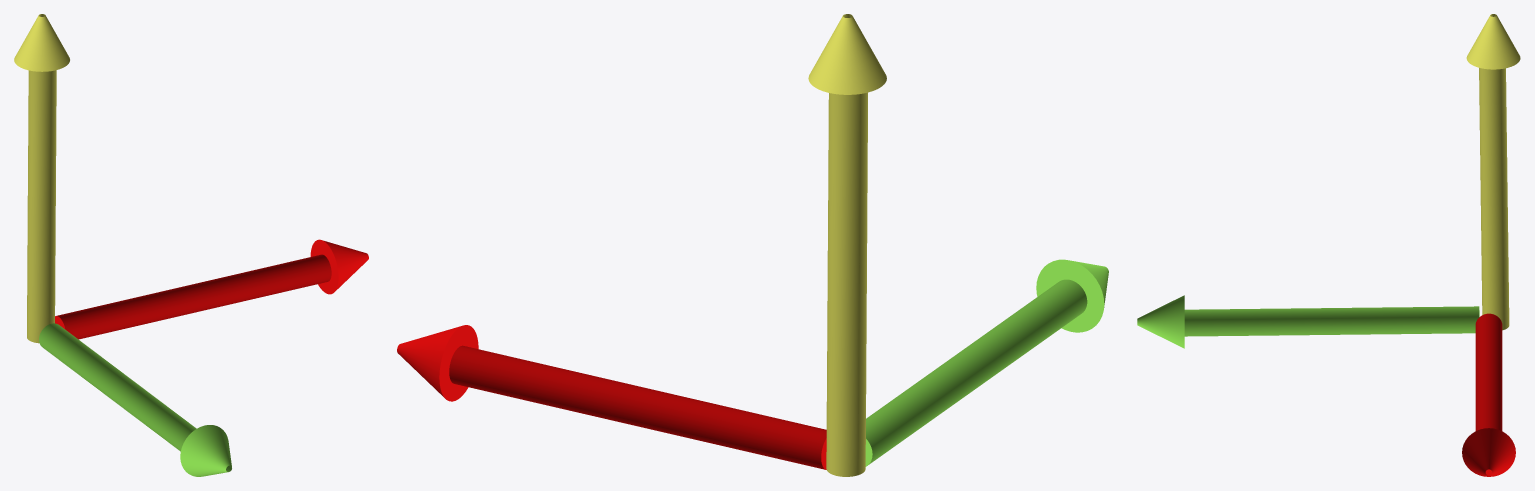
3 views of the same model, side by side, from view 1: azimuth 30°, elevation 25°; view 2: azimuth 150°, elevation 25°; view 3: azimuth 270°, elevation 25° (orthographic). The views are drawn at different scales.
Parts seen in each view (by area): view 1: Cylinder.005, Cylinder.003, Cylinder.004, Cone.004, Cone.003, Cone.005; view 2: Cylinder.005, Cylinder.003, Cylinder.004, Cone.003, Cone.005, Cone.004; view 3: Cylinder.004, Cylinder.003, Cylinder.005, Cone.005, Cone.003, Cone.004.
Part boxes in pixels (left/top/right/bottom): Cylinder.005: left=55, top=254, right=331, bottom=339; Cylinder.003: left=27, top=70, right=56, bottom=343; Cylinder.004: left=39, top=323, right=196, bottom=451; Cone.004: left=180, top=425, right=231, bottom=476; Cone.003: left=14, top=14, right=69, bottom=71; Cone.005: left=310, top=239, right=368, bottom=294; Cylinder.005: left=449, top=345, right=826, bottom=469; Cylinder.003: left=826, top=92, right=867, bottom=476; Cylinder.004: left=865, top=279, right=1087, bottom=466; Cone.003: left=808, top=14, right=886, bottom=94; Cone.005: left=397, top=325, right=478, bottom=401; Cone.004: left=1036, top=259, right=1108, bottom=332; Cylinder.004: left=1184, top=306, right=1479, bottom=336; Cylinder.003: left=1479, top=68, right=1509, bottom=330; Cylinder.005: left=1475, top=313, right=1502, bottom=430; Cone.005: left=1462, top=428, right=1515, bottom=476; Cone.003: left=1466, top=14, right=1520, bottom=69; Cone.004: left=1137, top=295, right=1184, bottom=348.
Size of the model in its own units: 0.1427 by 0.1351 by 0.142.
